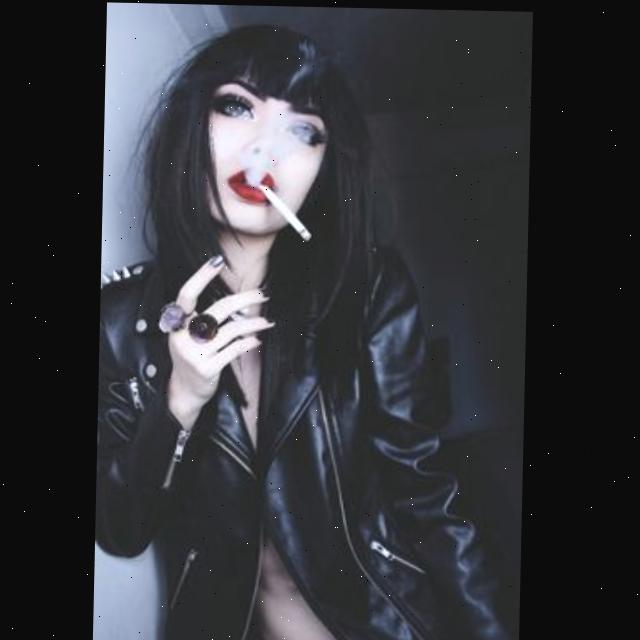cigarette: (260, 184, 312, 238)
